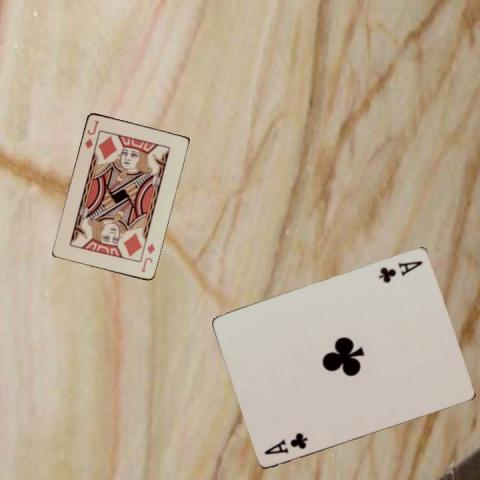Ac: (376, 257, 424, 284), (262, 429, 310, 456)
Jd: (82, 117, 101, 150), (137, 241, 156, 273)
